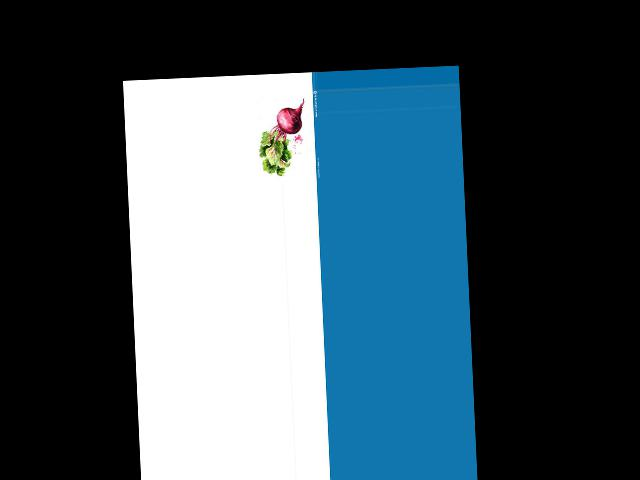beet: (257, 99, 308, 177)
